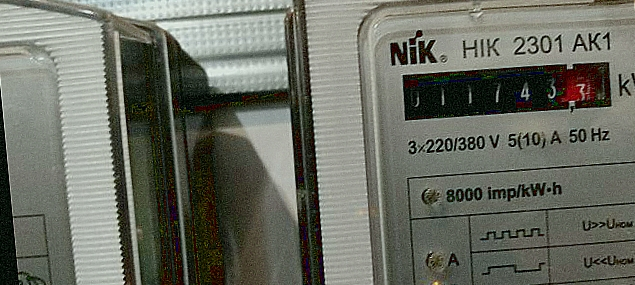0: (406, 81, 422, 110)
1: (433, 79, 449, 108), (461, 77, 476, 106)
3: (542, 74, 558, 102), (571, 81, 588, 103)
4: (516, 77, 532, 103)
7: (488, 78, 504, 104)
screen: (391, 49, 623, 134)
